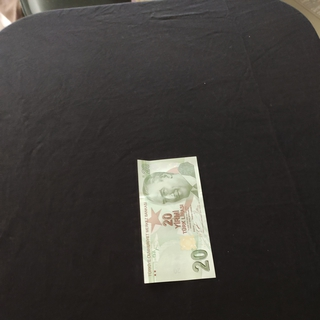20TLFront: (136, 155, 216, 283)
